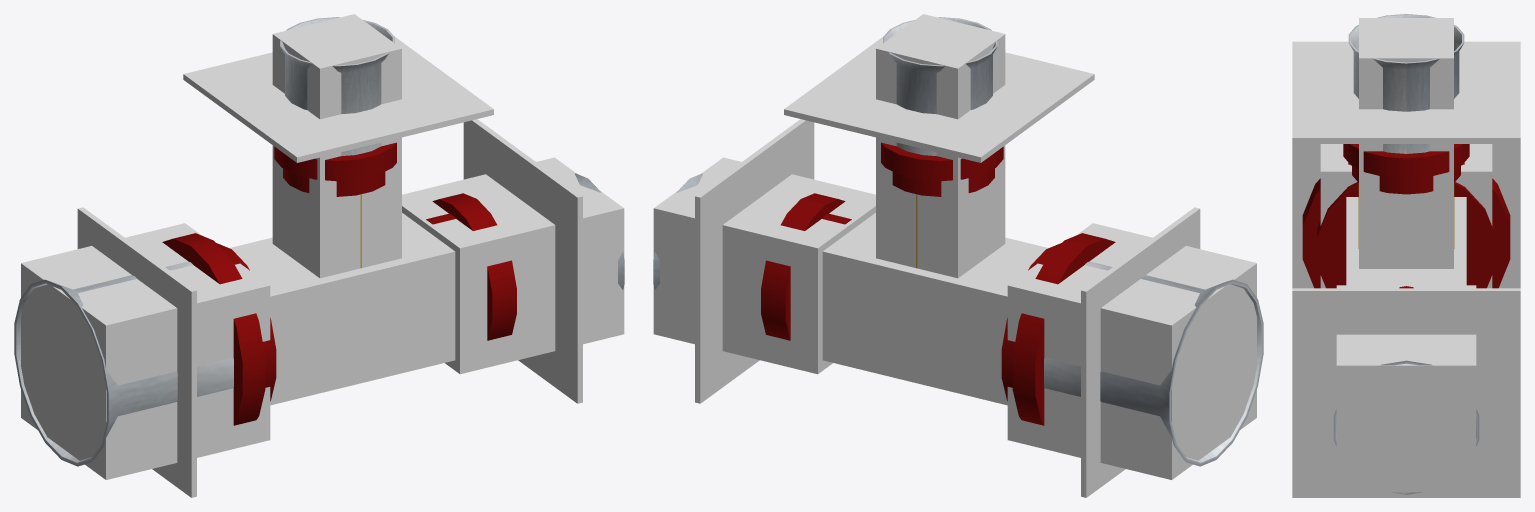
Rendered from mp_tronik_26х16х20.FBX.
3 views of the same model, side by side, from view 1: azimuth 30°, elevation 25°; view 2: azimuth 150°, elevation 25°; view 3: azimuth 270°, elevation 25° (orthographic).
Parts seen in each view (by area): view 1: tronik_26х16х20_COL_, tronik_26х16х20_, Box002_est_003, Box001_est_001, Box002_est_002; view 2: tronik_26х16х20_COL_, tronik_26х16х20_, Box002_est_003, Box001_est_001, Box002_est_002; view 3: tronik_26х16х20_COL_, Box001_est_001, Box002_est_003, tronik_26х16х20_, Box002_est_002.
Boxes of the visible parts, bbox=[...] form: tronik_26х16х20_COL_: bbox=[21, 14, 624, 479]; tronik_26х16х20_: bbox=[14, 17, 624, 466]; Box002_est_003: bbox=[183, 36, 493, 162]; Box001_est_001: bbox=[463, 119, 582, 403]; Box002_est_002: bbox=[77, 207, 196, 497]; tronik_26х16х20_COL_: bbox=[653, 14, 1256, 479]; tronik_26х16х20_: bbox=[653, 17, 1263, 466]; Box002_est_003: bbox=[784, 36, 1094, 162]; Box001_est_001: bbox=[695, 119, 814, 403]; Box002_est_002: bbox=[1081, 207, 1200, 497]; tronik_26х16х20_COL_: bbox=[1320, 18, 1492, 492]; Box001_est_001: bbox=[1292, 288, 1520, 497]; Box002_est_003: bbox=[1292, 41, 1520, 143]; tronik_26х16х20_: bbox=[1302, 14, 1510, 494]; Box002_est_002: bbox=[1292, 144, 1520, 288].
Bounding box in the file's own units: 0.0965 × 0.0638 × 0.036.
3 materials, 1 textured.
